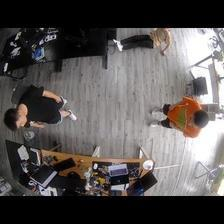fall: (113, 28, 172, 55)
normal: (6, 83, 78, 134), (147, 100, 212, 138)
